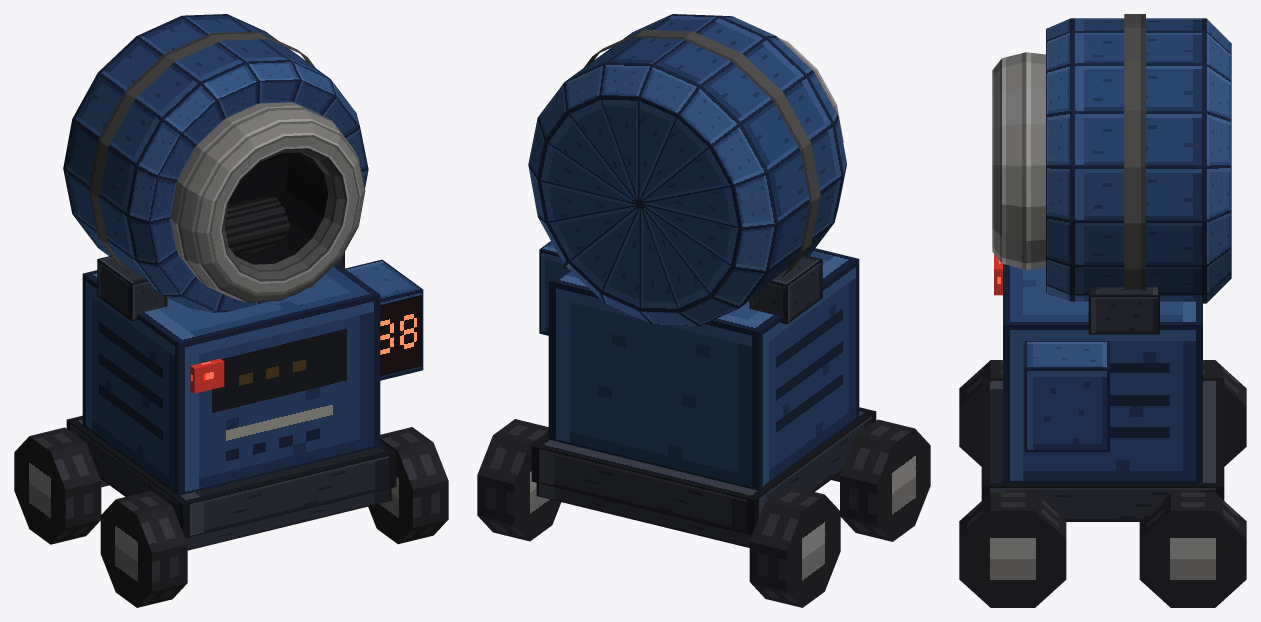
The model's file is pitching_machine_v2.glb.
The picture shows the model from 3 angles, left to right: view 1: azimuth 30°, elevation 25°; view 2: azimuth 150°, elevation 25°; view 3: azimuth 270°, elevation 25°; orthographic projection. The views are drawn at different scales.
Parts seen in each view (by area): view 1: Body, LED, WheelR; view 2: Body; view 3: Body.
Boxes of the visible parts, x1,y1,x2,y2 form: Body: (14,14,448,607); LED: (190,295,421,393); WheelR: (224,196,290,252); Body: (477,14,930,607); Body: (959,14,1246,607).
Size of the model in its own units: 1.02 by 1.56 by 0.8045.
2 materials, 2 textured.
